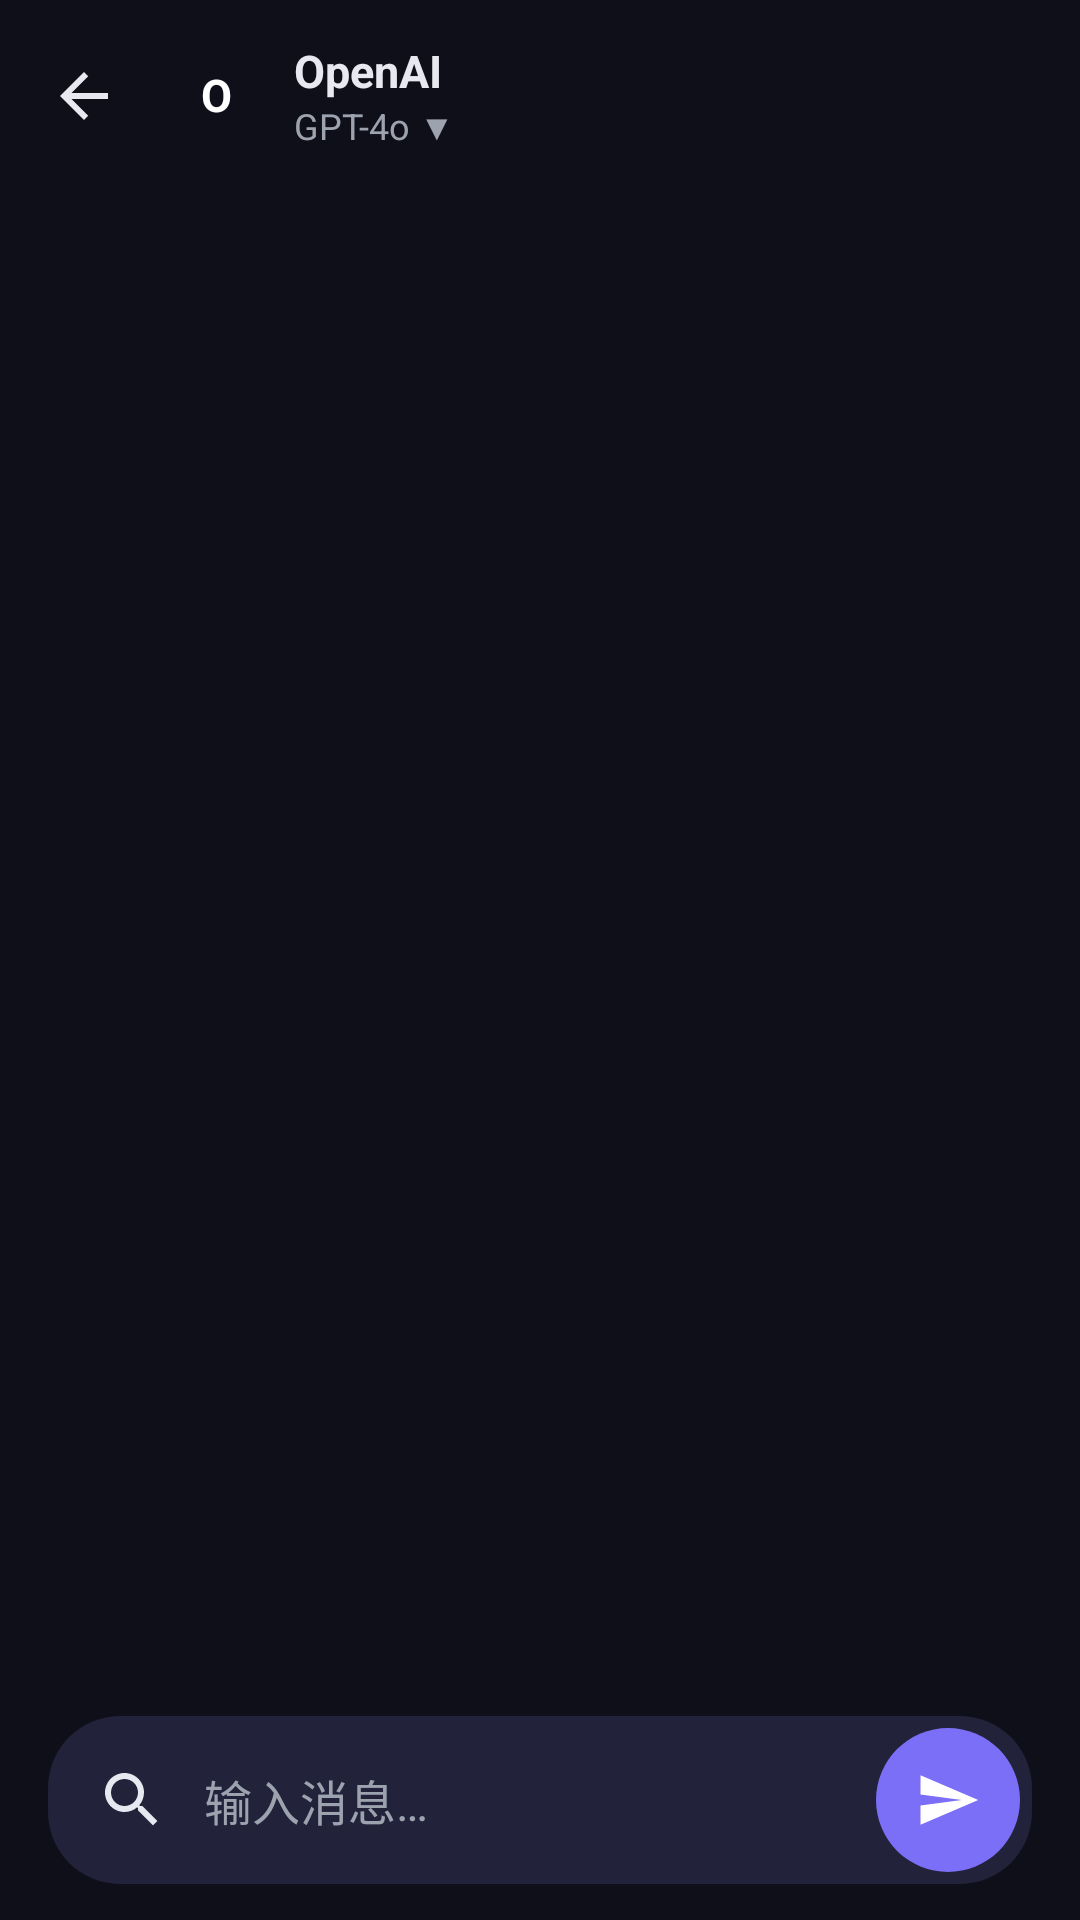

Where to tap for icons on this 1080 × 1920 app screen, as (x=x, y=y):
send: (x=948, y=1800)
联网搜索: (x=131, y=1799)
